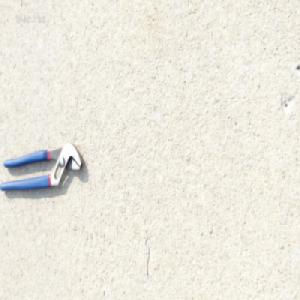Pliers: (0, 138, 82, 193)
